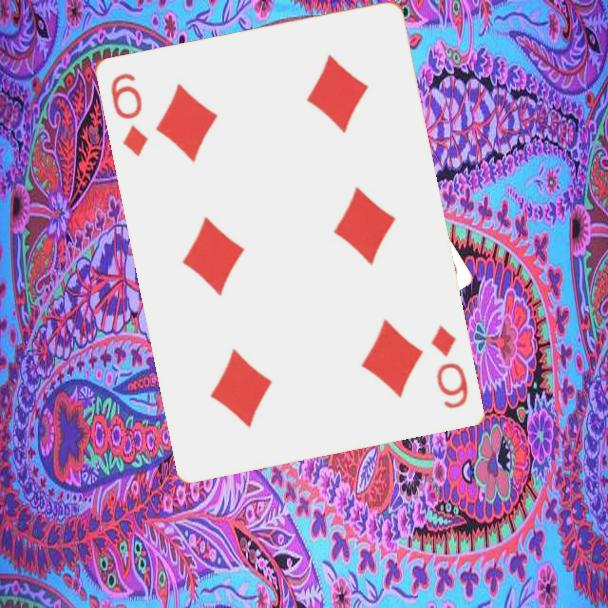d06: (106, 69, 151, 159), (426, 321, 471, 411)
